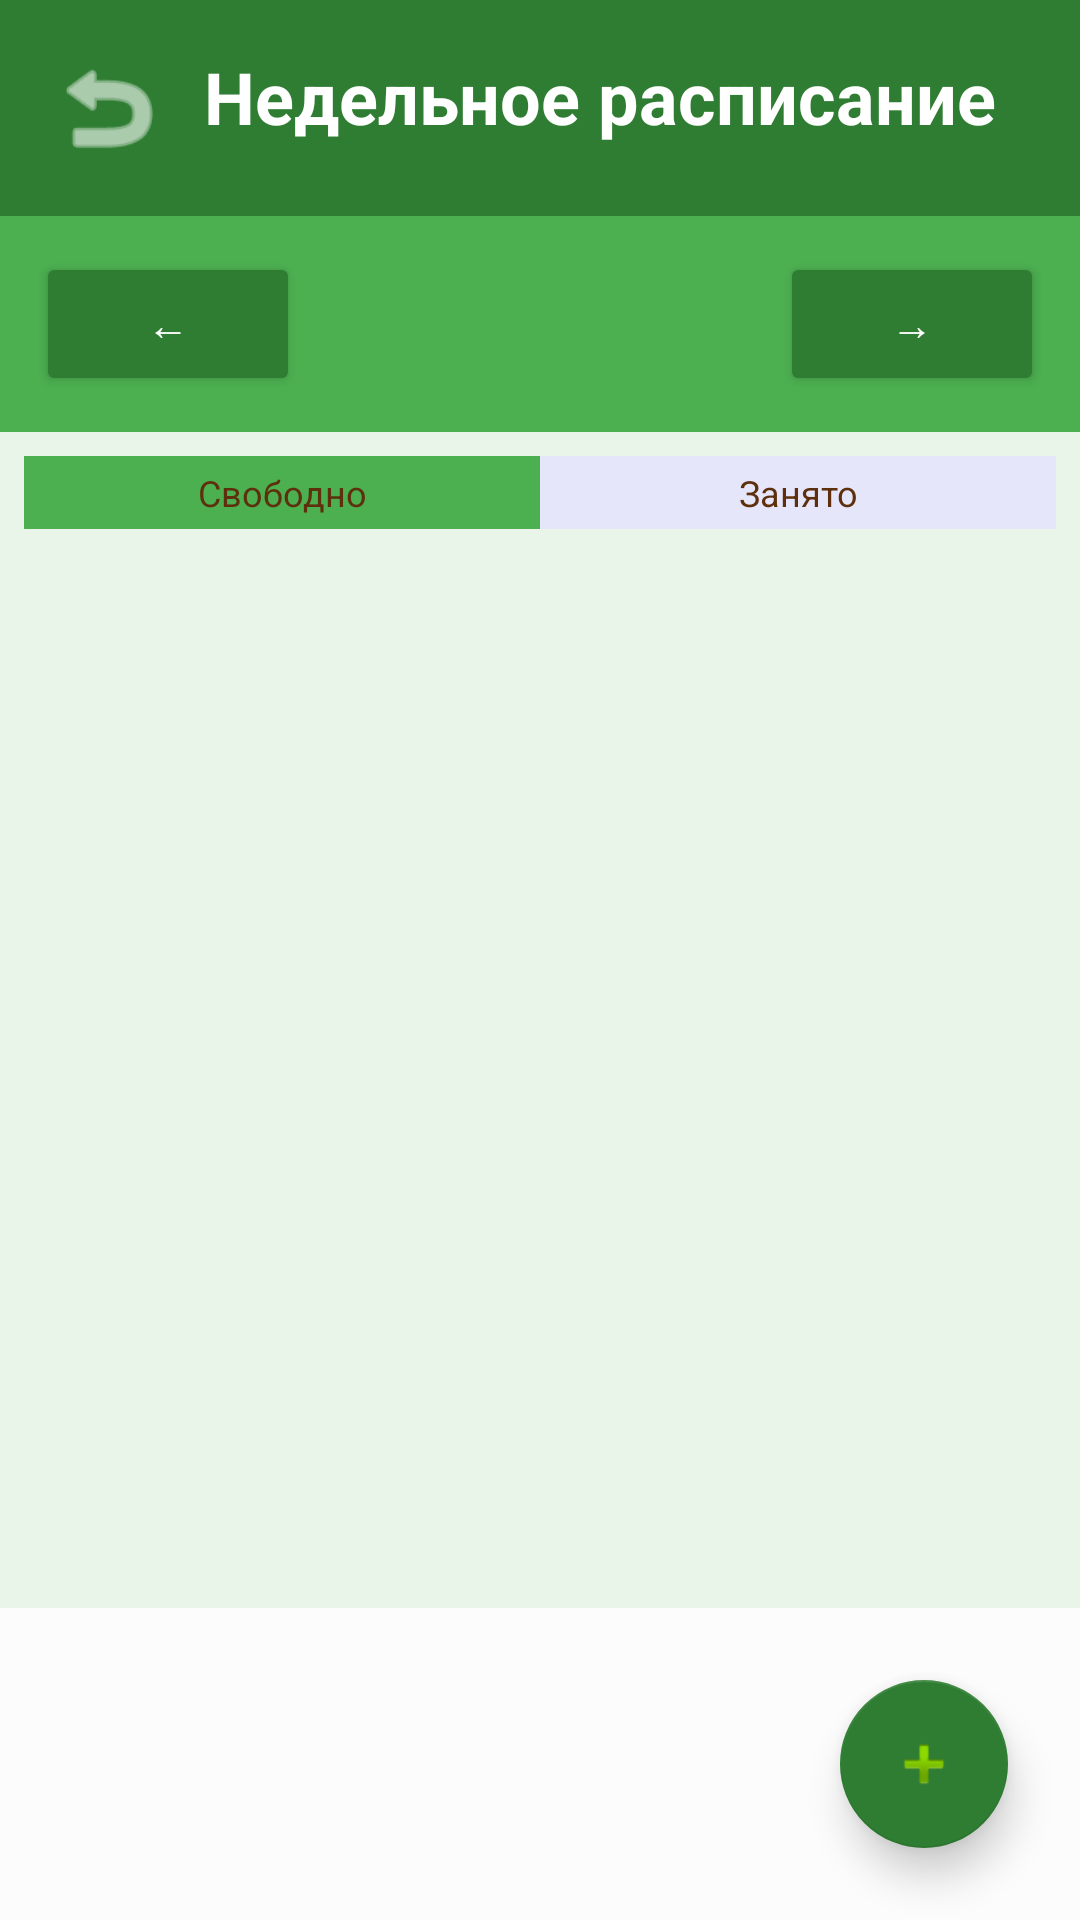

Point at icon controls on the screen. Image size 1080×1920, points as [x,y].
Добавить бронирование: [924,1764]
Назад: [109,109]
